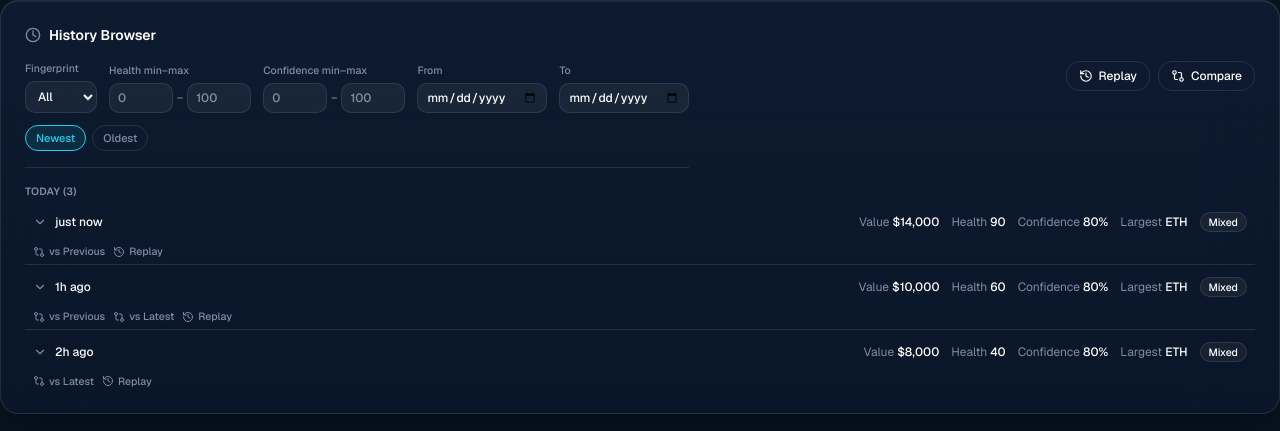
Test: HistoryBrowserSection — V4-HISTORY-003 Snapshot Compare › SINGLE SELECTION: selecting one snapshot updates the prompt to 'select 1 more', comparison view not shown yet
Step 1. Click the button "Compare" → click(1206, 76), box x1=1158 y1=61 x2=1255 y2=91
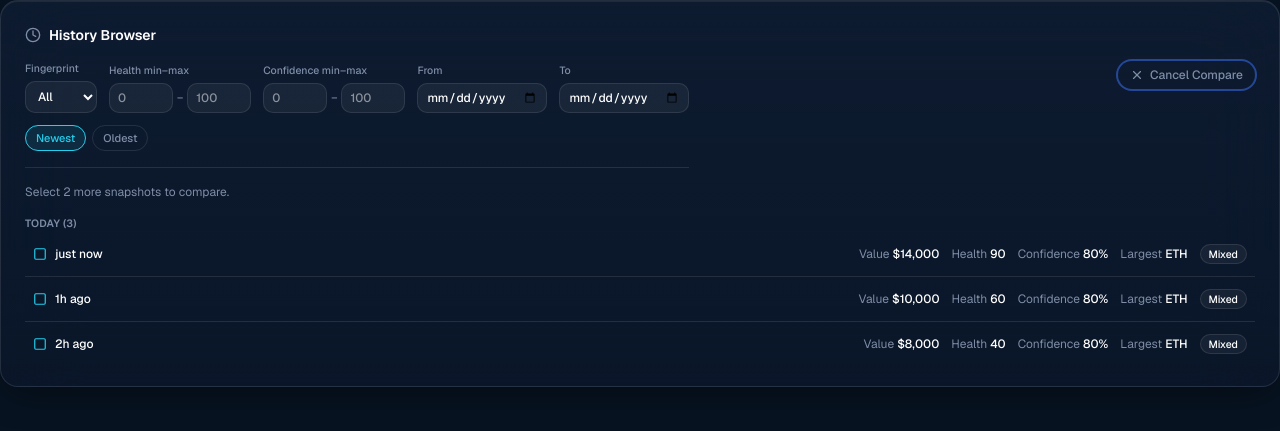
Step 2. Click the button "Health 40" → click(74, 344), box x1=25 y1=326 x2=1255 y2=362
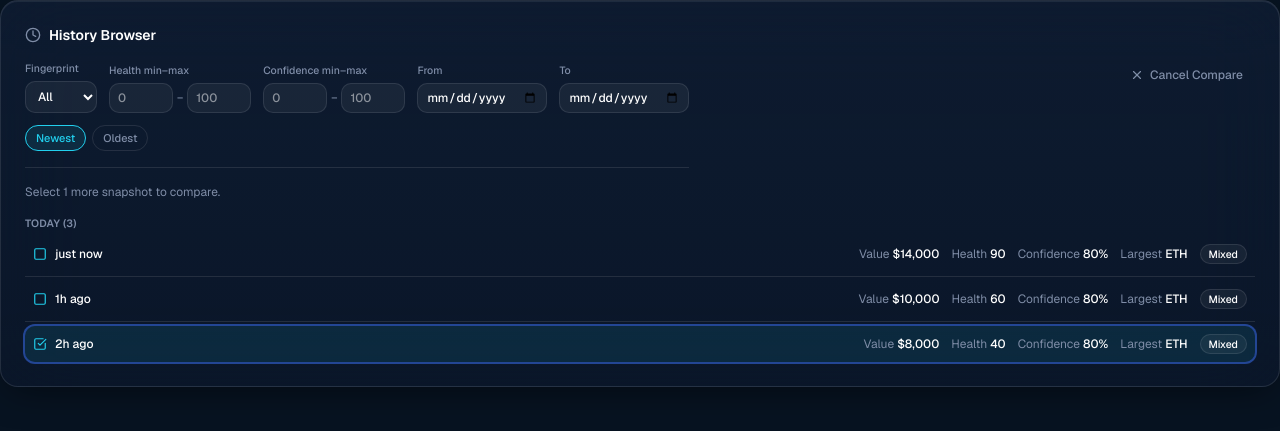
Expected: the text "Select 1 more snapshot to compare." is shown, x1=25 y1=184 x2=220 y2=200
